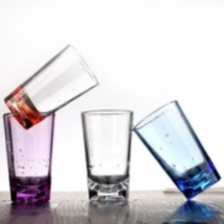glass: (131, 94, 223, 207), (0, 33, 106, 128), (75, 102, 140, 212), (0, 105, 58, 206)
